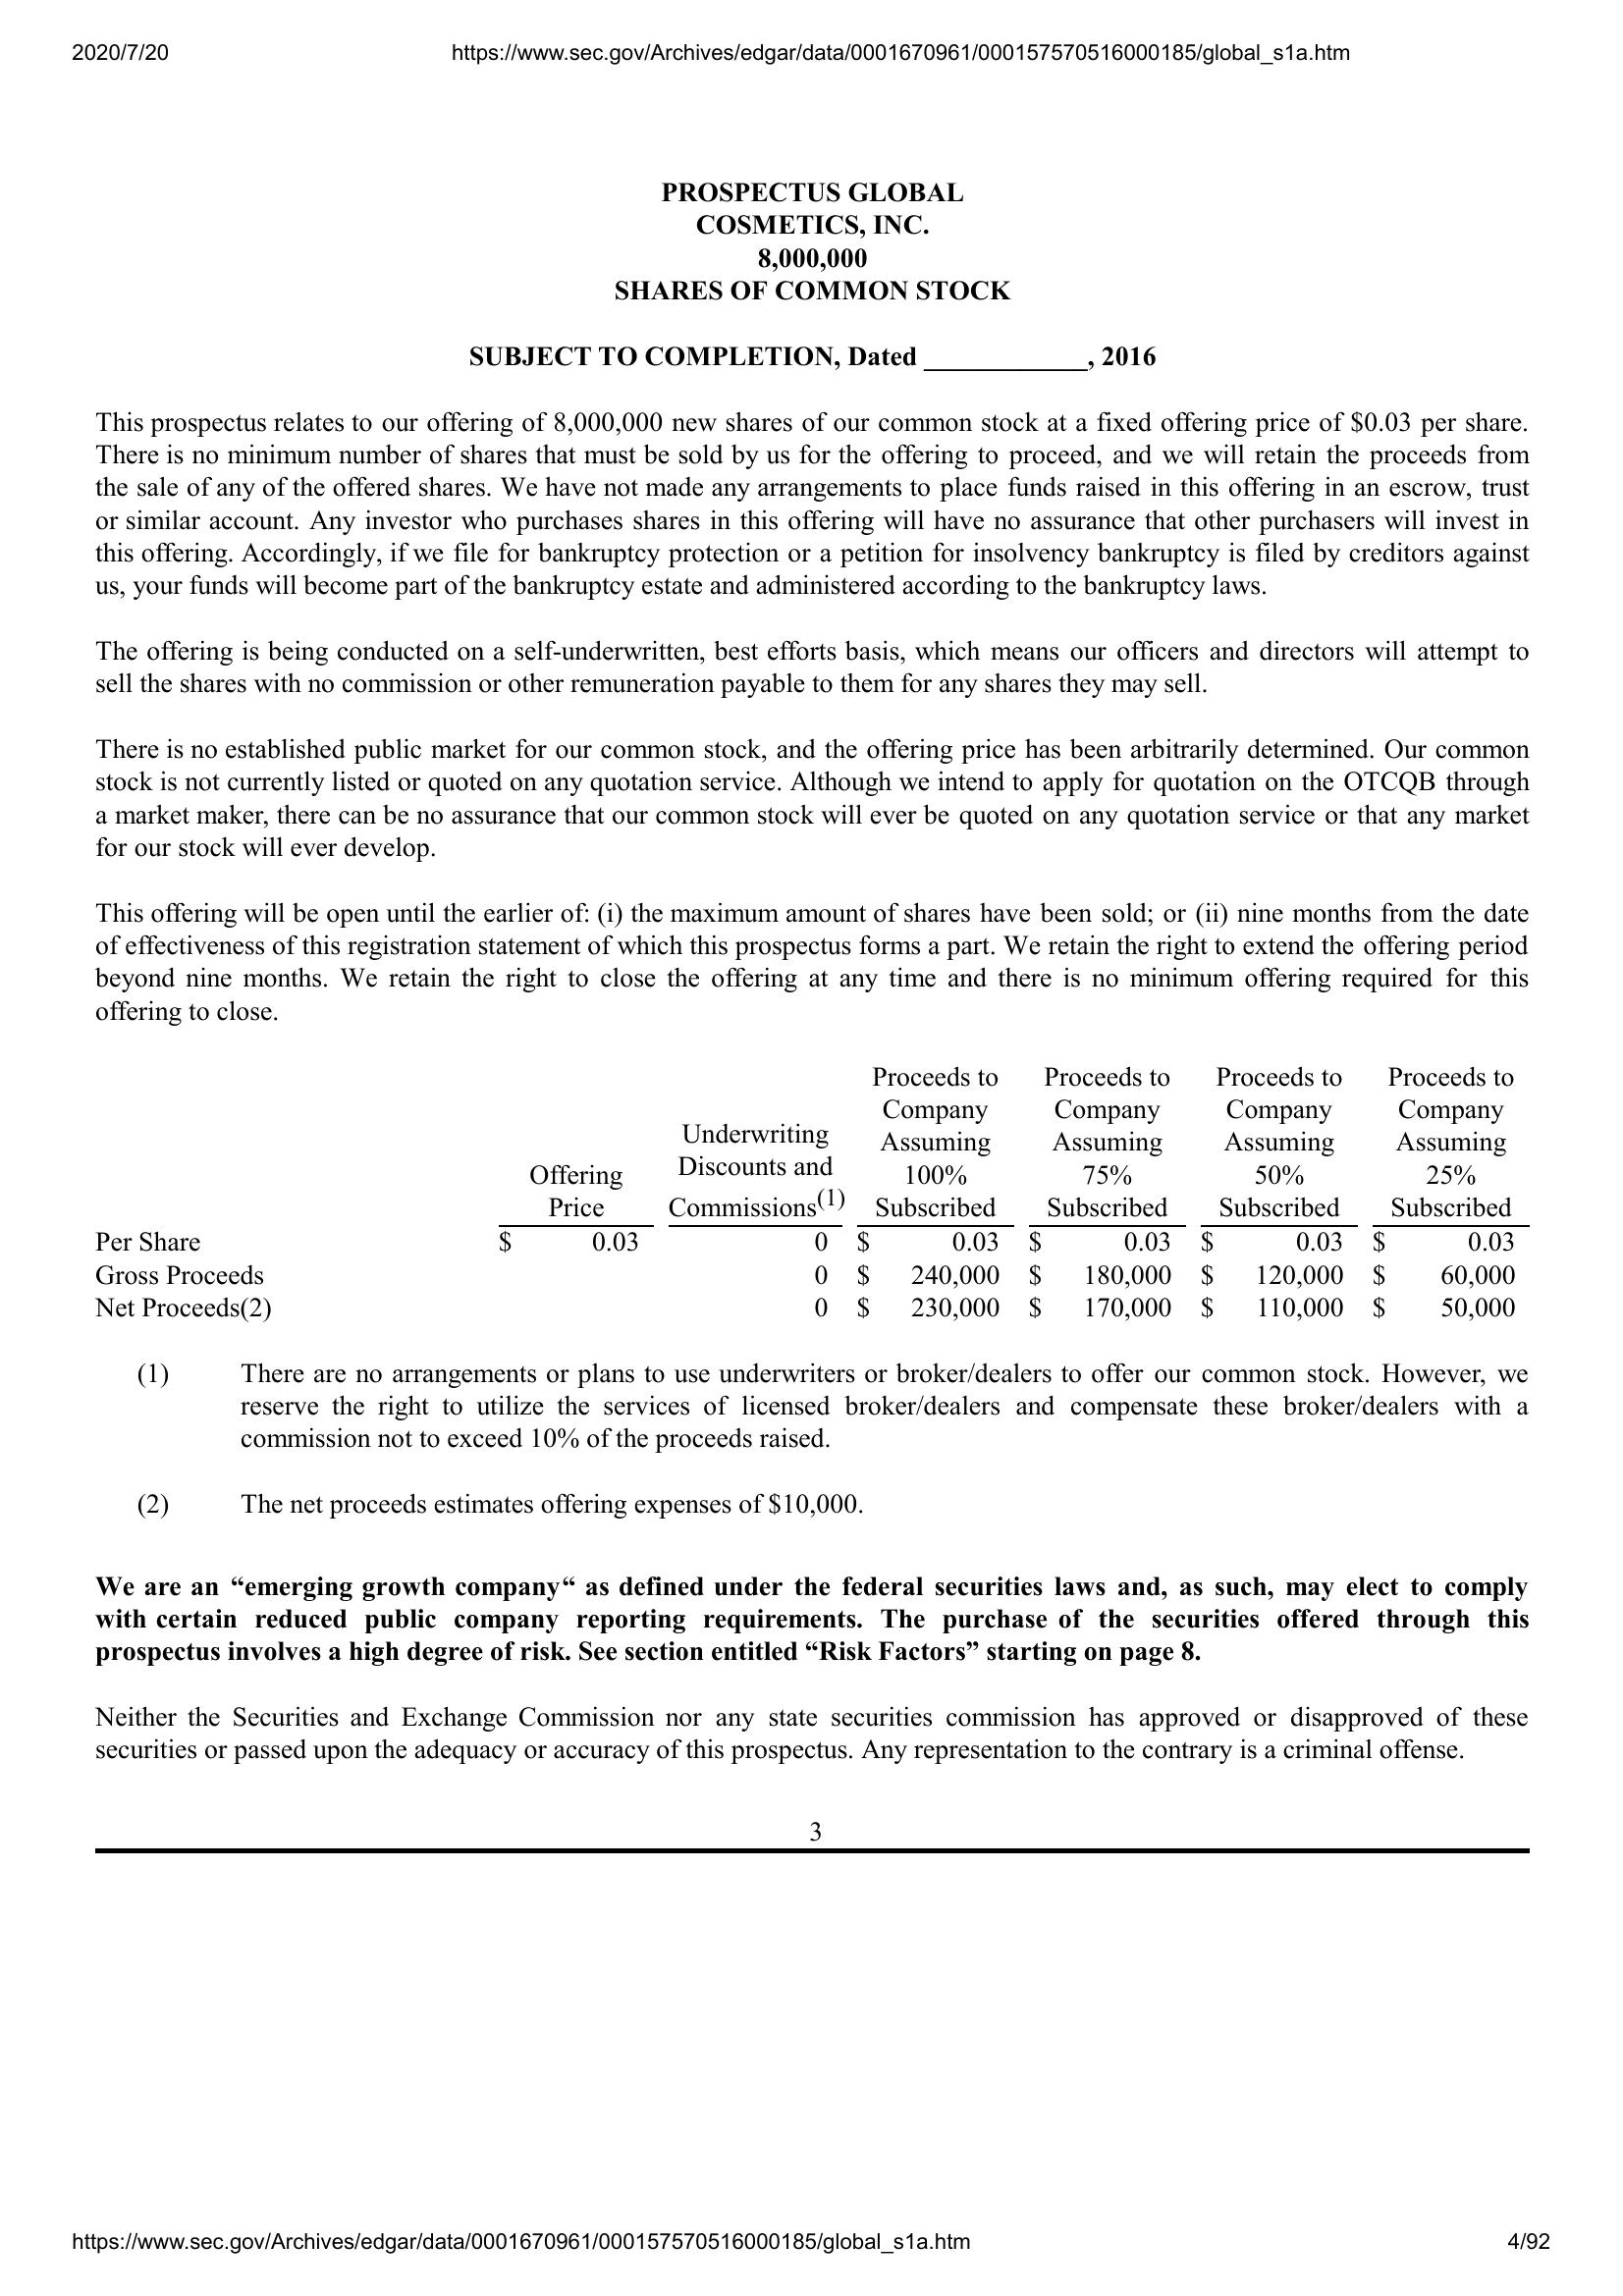table: (90, 1055, 1528, 1336)
